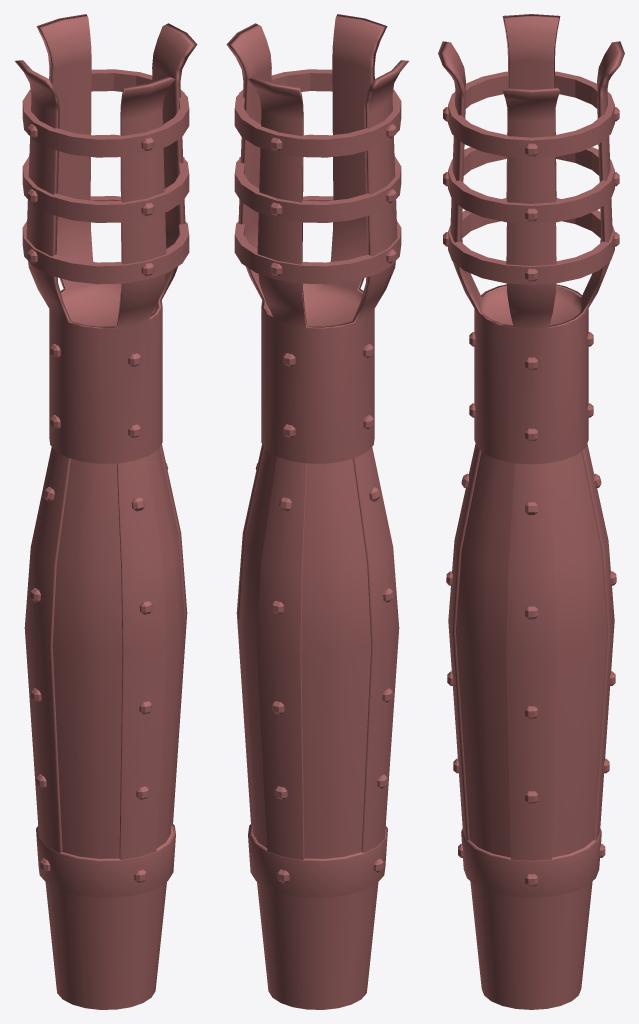
File: torch2.fbx
3 renders of one model, left to right at view 1: azimuth 30°, elevation 25°; view 2: azimuth 150°, elevation 25°; view 3: azimuth 270°, elevation 25°, orthographic.
Visible parts, largest first — view 1: metal1; view 2: metal1; view 3: metal1.
Boxes of the visible parts, x1,y1,x2,y2 form: metal1: [15, 14, 197, 1009]; metal1: [226, 14, 408, 1009]; metal1: [438, 14, 624, 1009].
Size of the model in its own units: 19.31 by 107 by 19.31.
